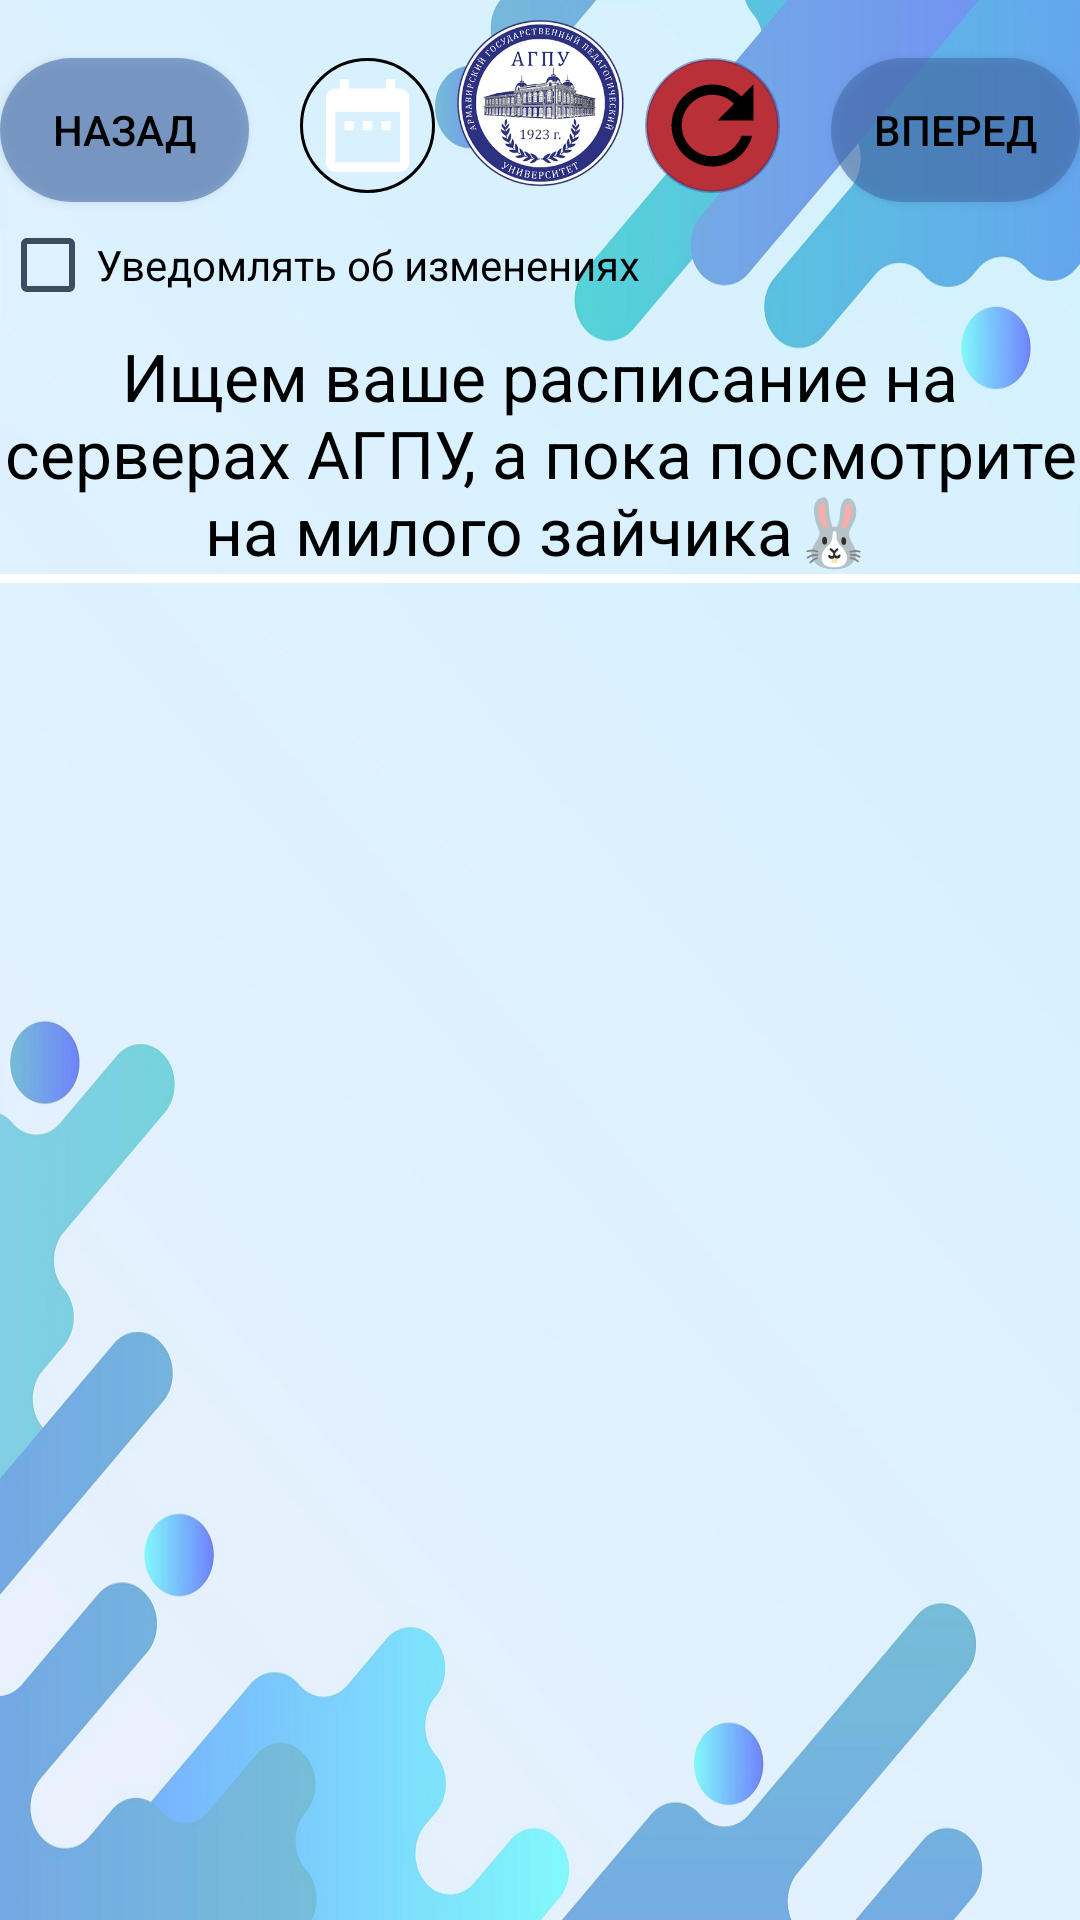

Where to tap for icons on this 1080 x 1920 app screen, as (x,y):
date range: (367,125)
refresh: (712,125)
